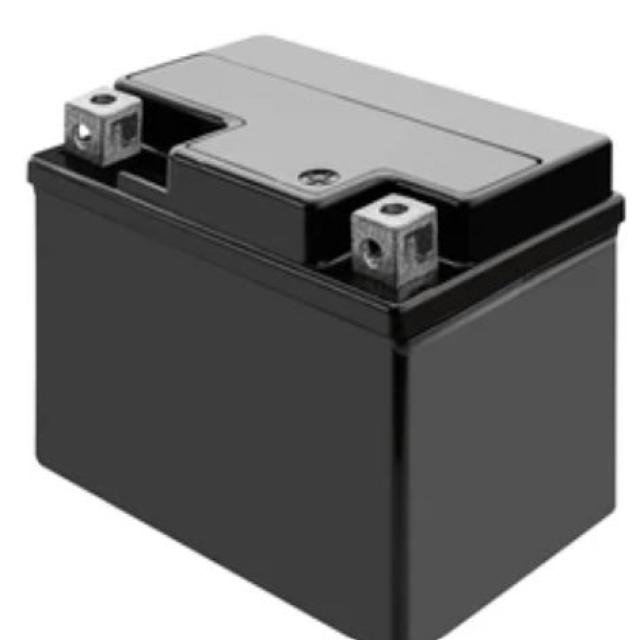electronic: (9, 19, 639, 640)
